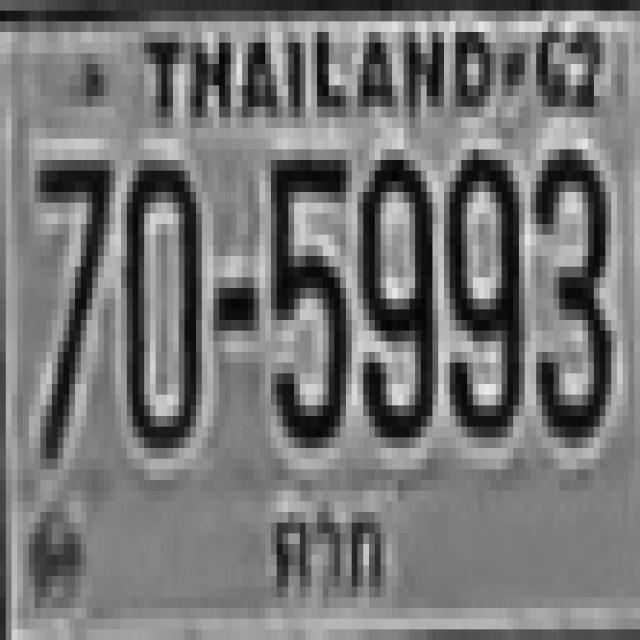0: (121, 154, 196, 442)
3: (530, 144, 606, 432)
5: (268, 150, 343, 438)
7: (34, 155, 110, 453)
9: (444, 138, 519, 426), (358, 150, 432, 438)
Tak: (264, 498, 391, 603)
